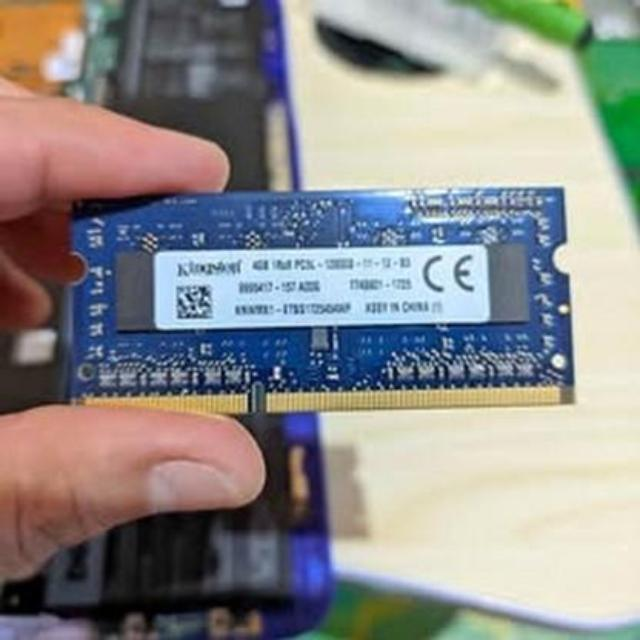RAM: (66, 179, 574, 416)
